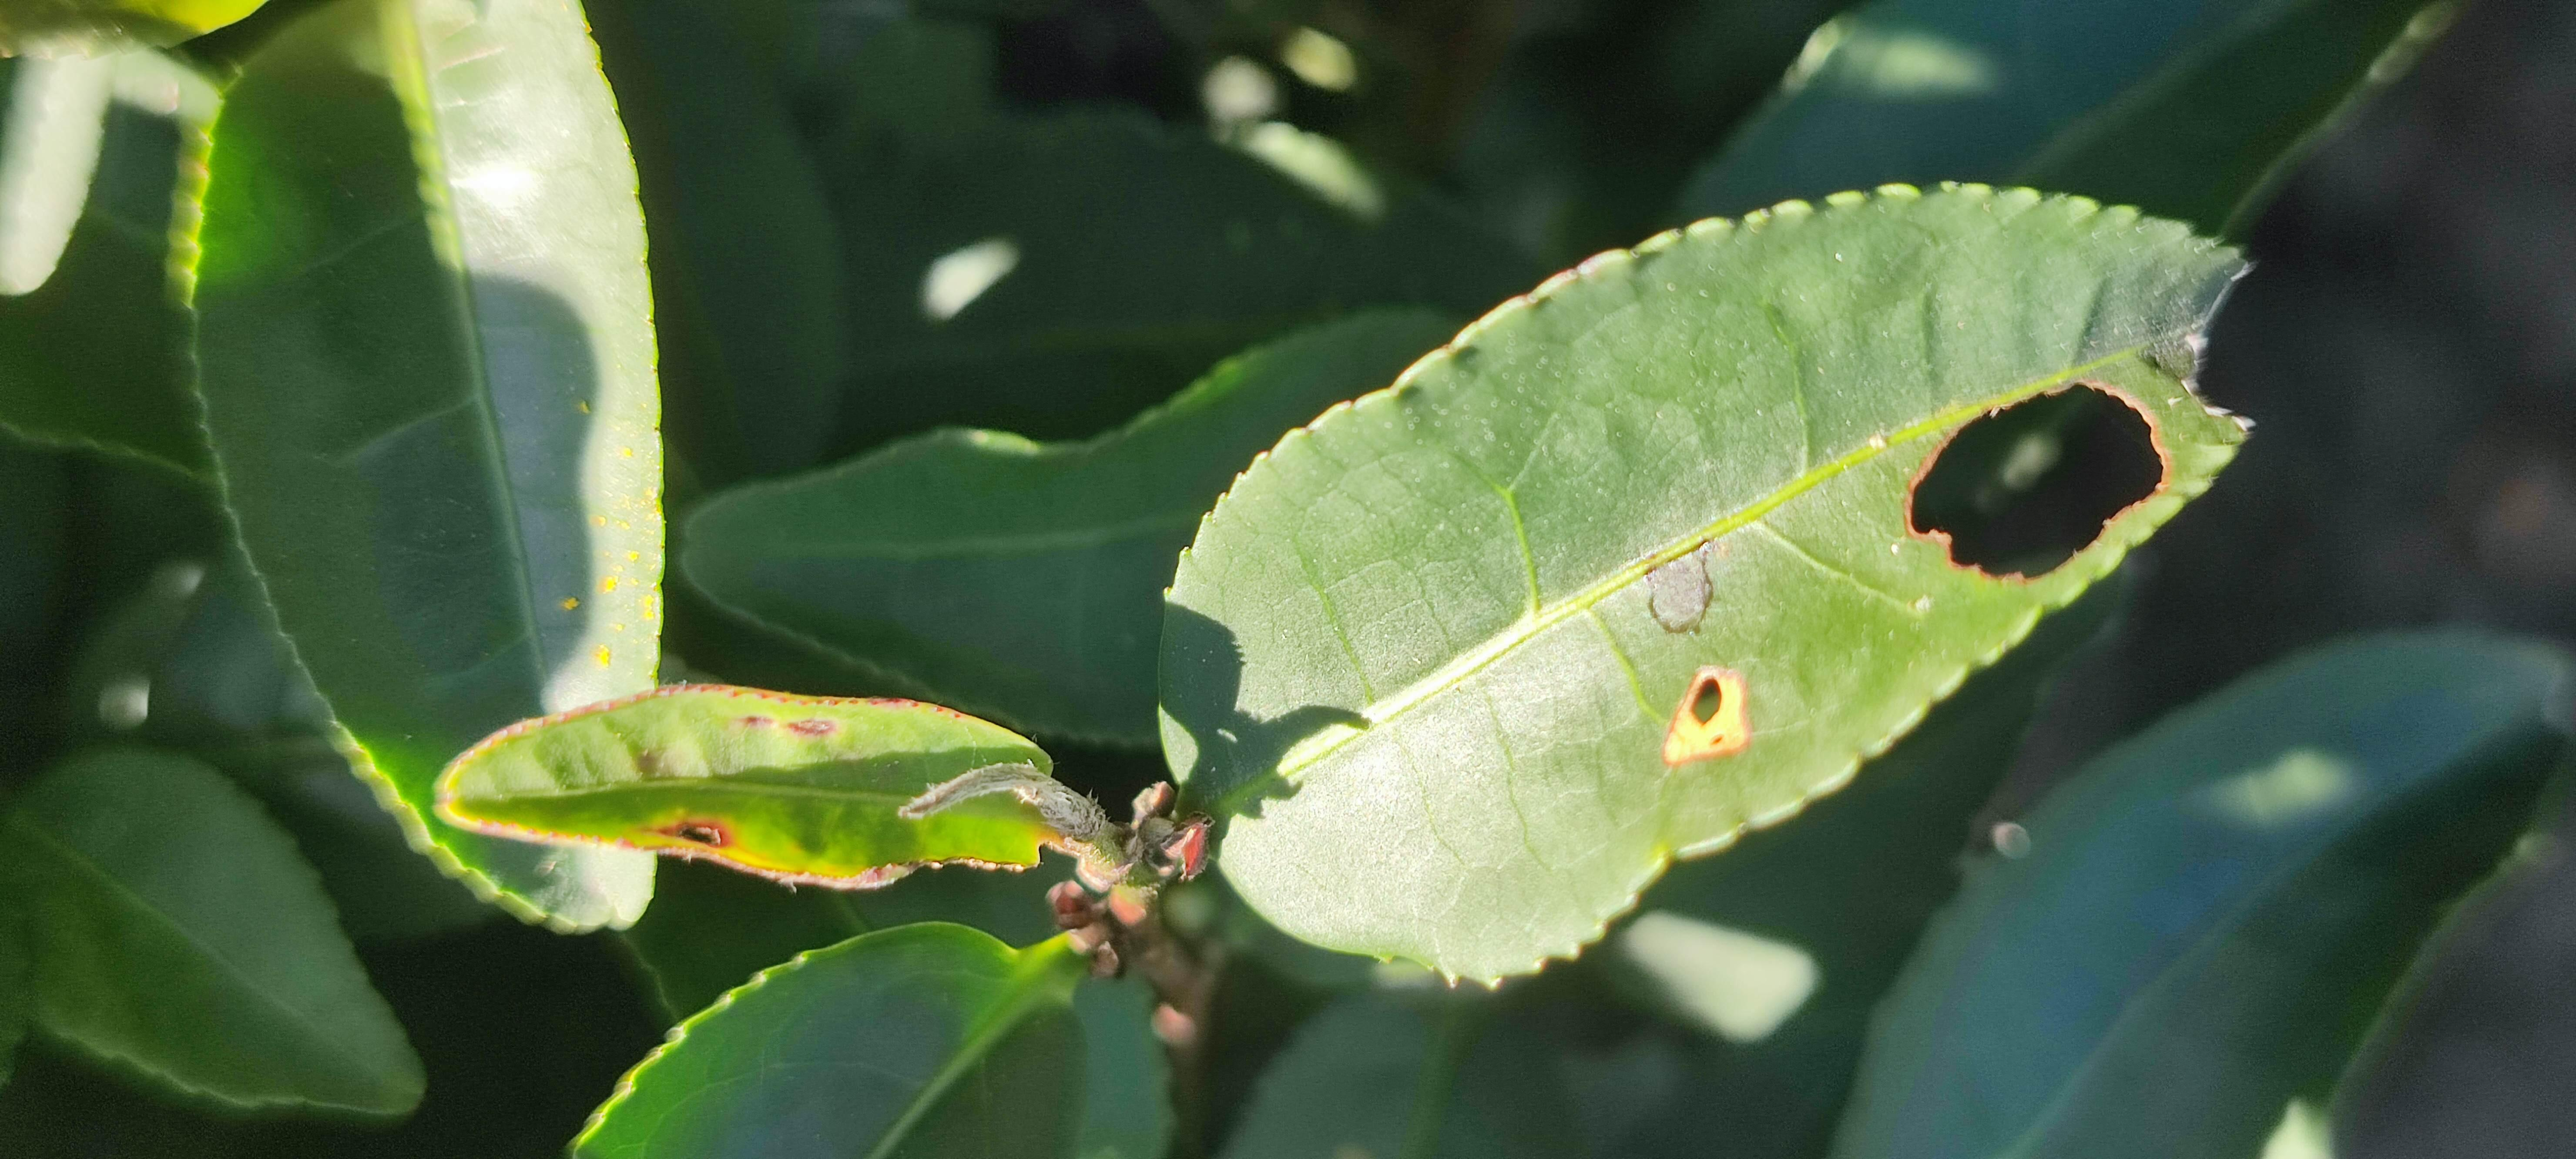chihuo_high: (1161, 176, 2264, 988)
healthy: (186, 2, 670, 941), (16, 747, 435, 1118)
tanju_low: (427, 683, 1073, 893)
